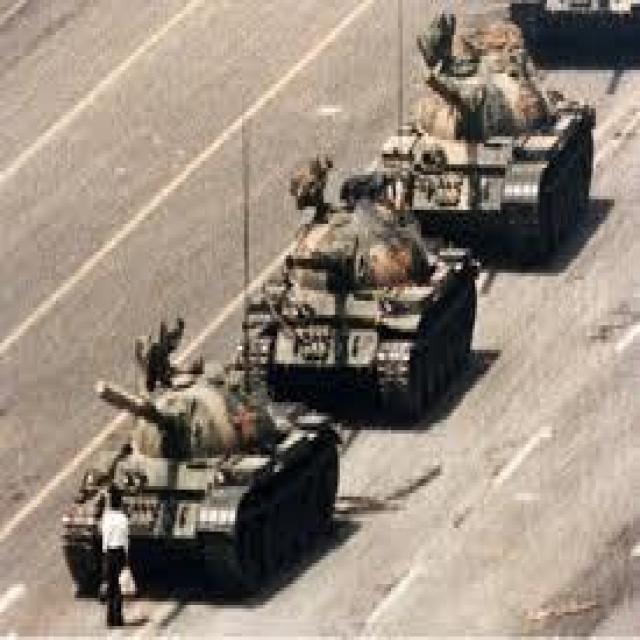Tanks: (74, 346, 333, 588), (245, 154, 469, 385), (391, 22, 596, 240)
